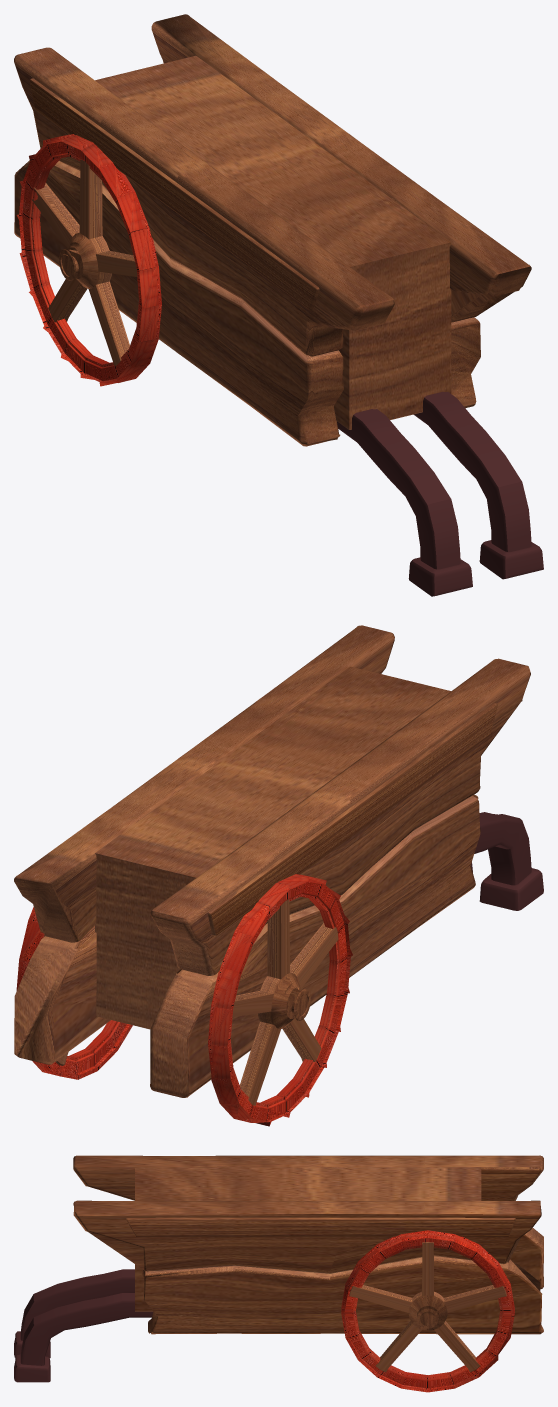
The model's file is Level1_Cart.fbx.
The picture shows the model from 3 angles, top to bottom: view 1: azimuth 30°, elevation 25°; view 2: azimuth 150°, elevation 25°; view 3: azimuth 270°, elevation 25°; orthographic projection. The views are drawn at different scales.
Parts seen in each view (by area): view 1: polySurface213; view 2: polySurface213; view 3: polySurface213.
Boxes of the visible parts, box(x1,y1,x2,y2) form: polySurface213: box(14, 14, 543, 596); polySurface213: box(14, 625, 543, 1126); polySurface213: box(14, 1155, 543, 1392).
Bounding box in the file's own units: 7.63 × 8.14 × 21.64.
